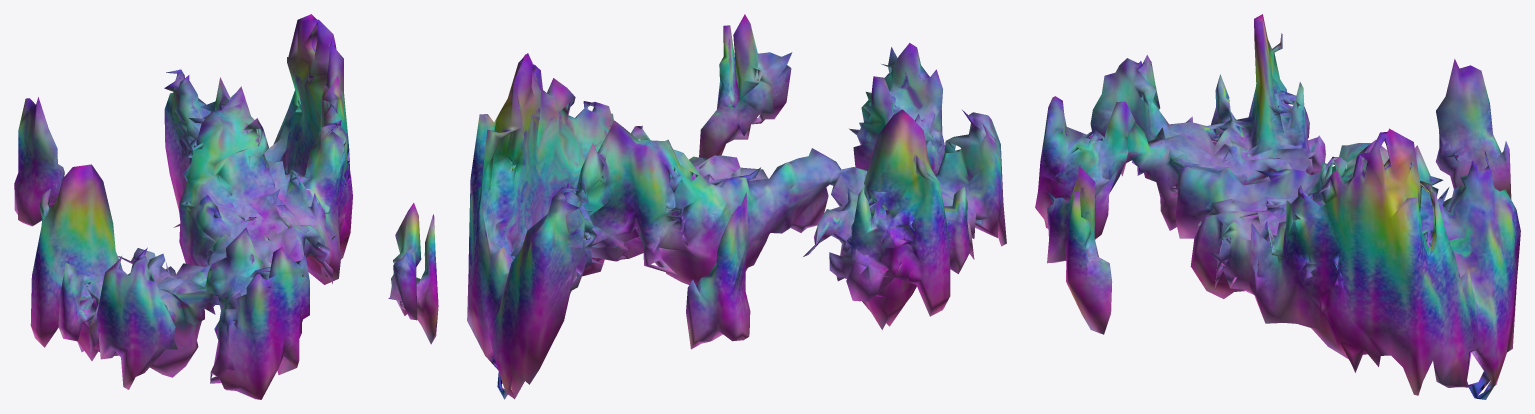
Rendered from ca3aa4e982a0_Aurora_Borealis_Sty.fbx.
3 renders of one model, left to right at view 1: azimuth 30°, elevation 25°; view 2: azimuth 150°, elevation 25°; view 3: azimuth 270°, elevation 25°, orthographic. The views are drawn at different scales.
Parts seen in each view (by area): view 1: mesh; view 2: mesh; view 3: mesh.
Boxes of the visible parts, x1,y1,x2,y2 form: mesh: (14,14,438,399); mesh: (467,14,1006,399); mesh: (1035,14,1520,399).
Bounding box in the file's own units: 89.79 × 64.95 × 100.
